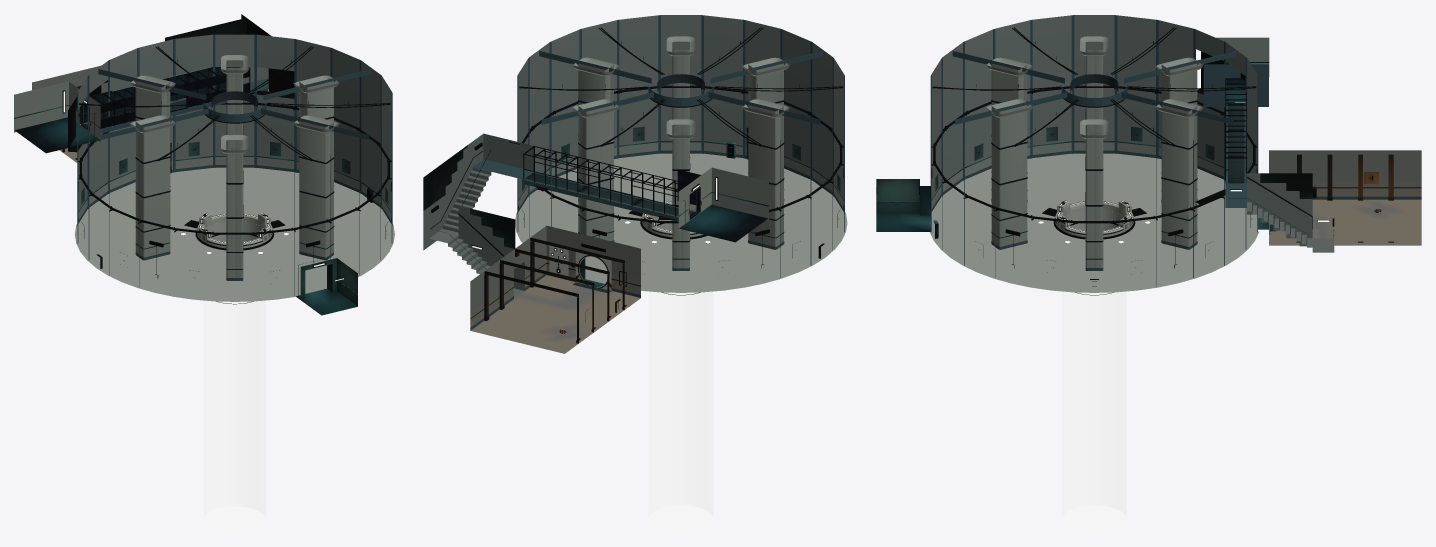
The model's file is env_the_bore.glb.
3 views of the same model, side by side, from view 1: azimuth 30°, elevation 25°; view 2: azimuth 150°, elevation 25°; view 3: azimuth 270°, elevation 25° (orthographic). The views are drawn at different scales.
Visible parts, largest first — view 1: chunk_bo_chamber__m_pellam, bore_glow, chunk_bo_ante__m_pellam, chunk_bo_chamber__m_mask; view 2: chunk_bo_chamber__m_pellam, chunk_bo_ante__m_pellam, bore_glow, chunk_bo_chamber__m_mask; view 3: chunk_bo_chamber__m_pellam, bore_glow, chunk_bo_ante__m_pellam, chunk_bo_chamber__m_mask.
Part boxes in pixels (x1=…): chunk_bo_chamber__m_pellam: x1=15, y1=34, x2=394, y2=315; bore_glow: x1=199, y1=213, x2=269, y2=532; chunk_bo_ante__m_pellam: x1=14, y1=14, x2=271, y2=162; chunk_bo_chamber__m_mask: x1=84, y1=67, x2=249, y2=128; chunk_bo_chamber__m_pellam: x1=463, y1=15, x2=847, y2=295; chunk_bo_ante__m_pellam: x1=423, y1=148, x2=685, y2=353; bore_glow: x1=644, y1=202, x2=713, y2=532; chunk_bo_chamber__m_mask: x1=525, y1=173, x2=694, y2=215; chunk_bo_chamber__m_pellam: x1=876, y1=15, x2=1269, y2=295; bore_glow: x1=1058, y1=201, x2=1130, y2=532; chunk_bo_ante__m_pellam: x1=1260, y1=62, x2=1421, y2=252; chunk_bo_chamber__m_mask: x1=1228, y1=104, x2=1244, y2=183.
Size of the model in its own units: 30.5 by 44 by 50.
